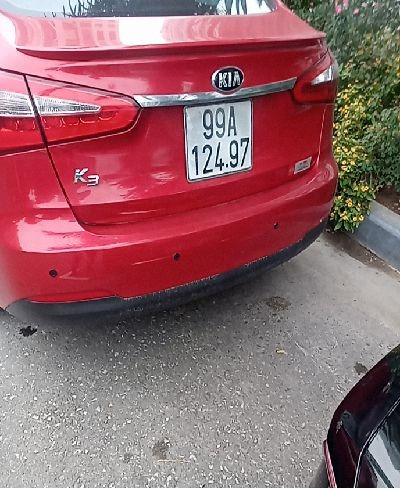number_plate: (174, 96, 263, 182)
